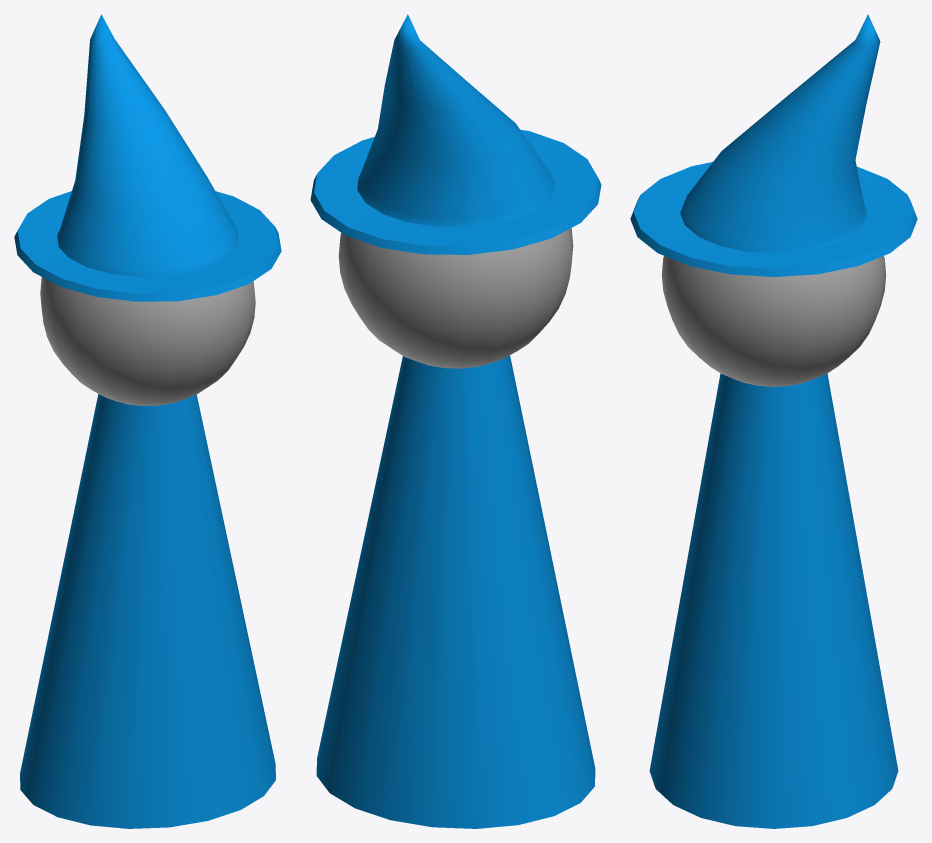
The model's file is modelOfWizard.fbx.
3 views of the same model, side by side, from view 1: azimuth 30°, elevation 25°; view 2: azimuth 150°, elevation 25°; view 3: azimuth 270°, elevation 25° (orthographic). The views are drawn at different scales.
Parts seen in each view (by area): view 1: Wizard; view 2: Wizard; view 3: Wizard.
Part boxes in pixels (x1,y1,x2,y2): Wizard: (14,14,281,828); Wizard: (310,14,601,828); Wizard: (630,14,917,828).
Bounding box in the file's own units: 2.45 × 7.44 × 2.56.
